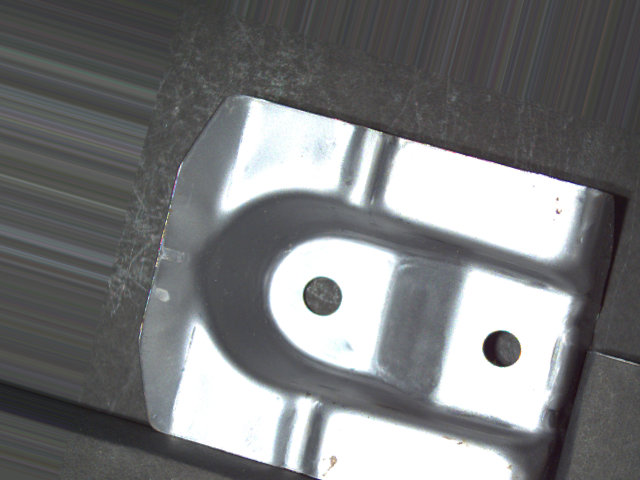defect: (297, 273, 345, 317)
